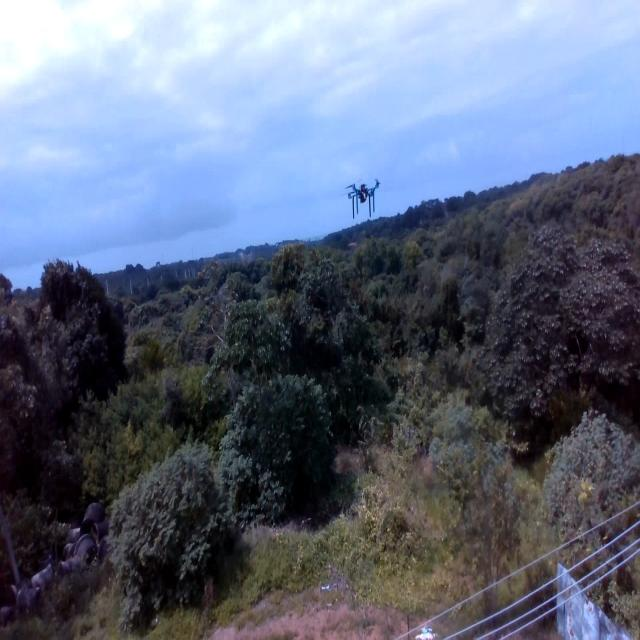-uav-: (339, 171, 385, 223)
